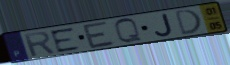D: (174, 8, 204, 37)
E: (80, 20, 117, 50), (48, 26, 83, 54)
J: (153, 12, 175, 38)
Q: (113, 18, 145, 45)
R: (21, 30, 57, 58)
